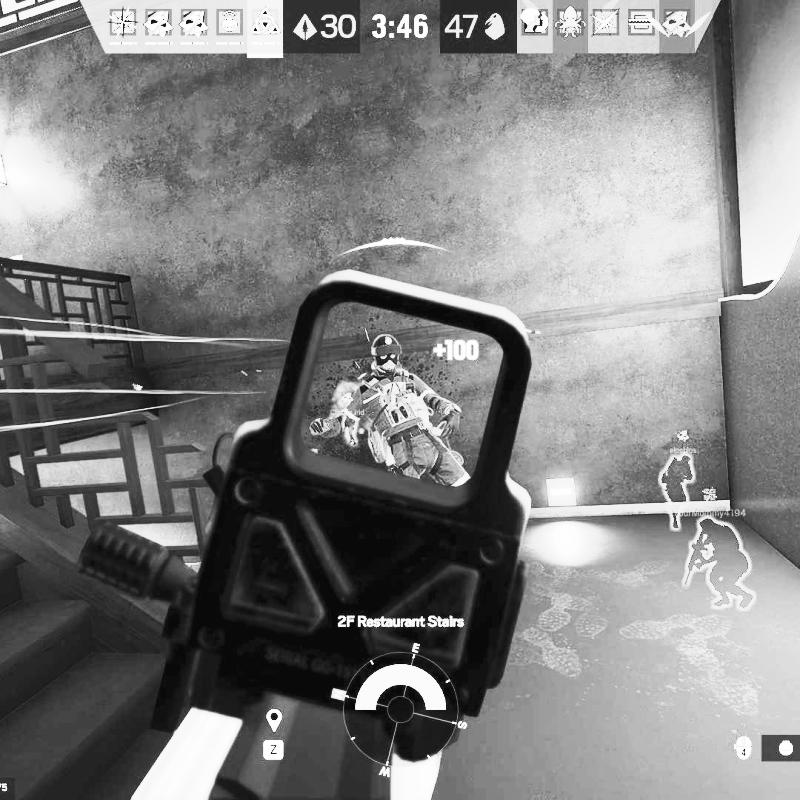Character: (307, 332, 472, 486)
Friend_label: (672, 487, 746, 519), (669, 428, 697, 454)
Head: (370, 333, 402, 377)
